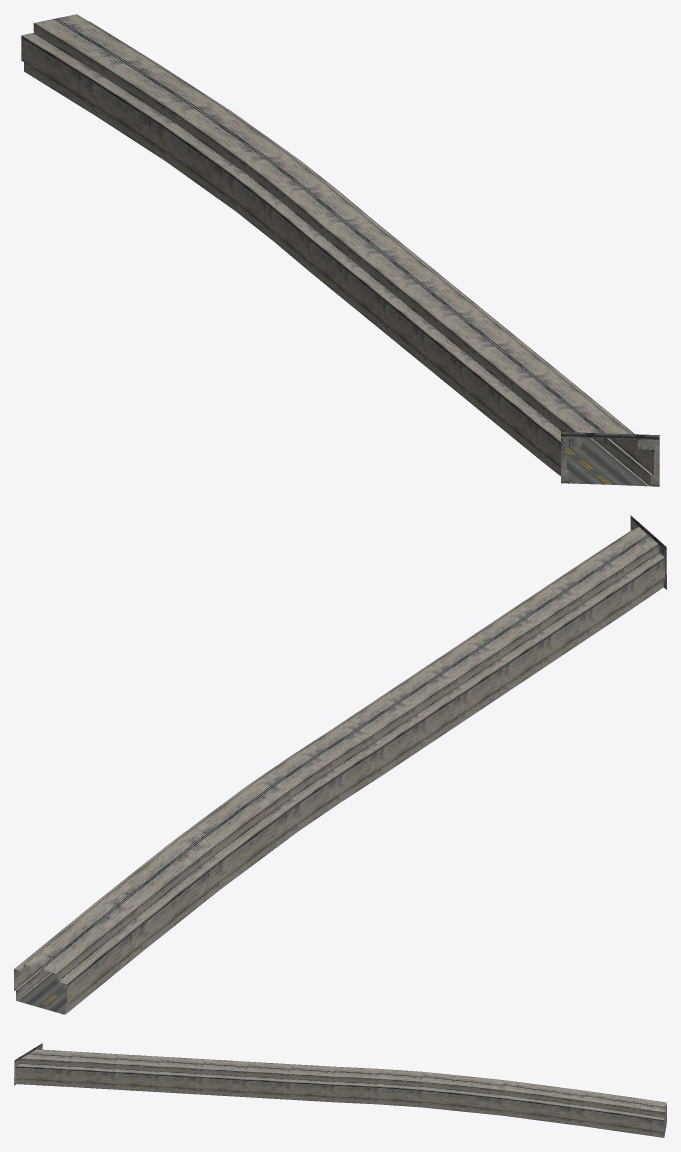
File: cuntytunnel.obj
3 views of the same model, one above another, from view 1: azimuth 30°, elevation 25°; view 2: azimuth 150°, elevation 25°; view 3: azimuth 270°, elevation 25° (orthographic). The views are drawn at different scales.
Parts seen in each view (by area): view 1: cuntytunnel; view 2: cuntytunnel; view 3: cuntytunnel.
Boxes of the visible parts, x1,y1,x2,y2 form: cuntytunnel: (21, 14, 659, 486); cuntytunnel: (14, 515, 666, 1014); cuntytunnel: (14, 1043, 666, 1137).
Bounding box in the file's own units: 29.78 × 22.27 × 224.
2 materials, 2 textured.
